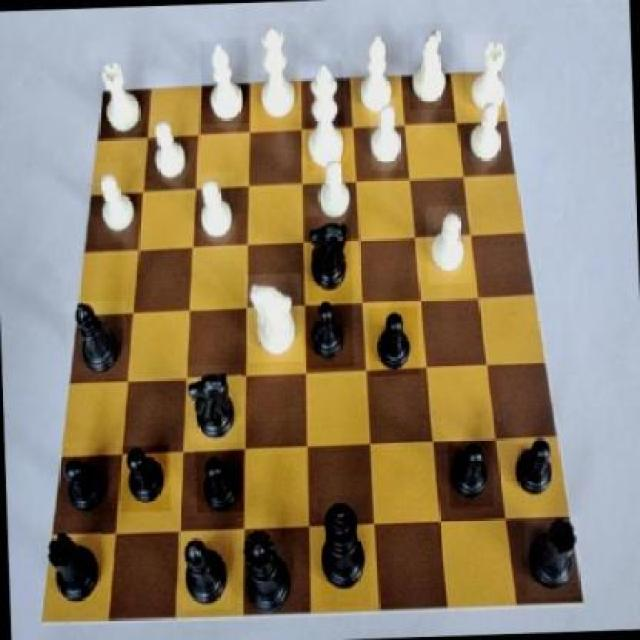bishop: (64, 298, 128, 379), (178, 529, 232, 610)
black-bishop: (317, 495, 372, 608)
black-king: (188, 364, 244, 444), (306, 215, 353, 302)
black-knight: (57, 448, 110, 518), (369, 308, 420, 378), (118, 445, 171, 512), (509, 432, 559, 502), (304, 302, 354, 369), (196, 449, 246, 513), (448, 440, 494, 508)
black-pawn: (235, 524, 300, 618)
black-queen: (44, 530, 104, 616), (524, 514, 582, 598)
black-rook: (198, 37, 248, 124), (354, 23, 397, 117)
white-bishop: (303, 58, 346, 172)
white-king: (245, 274, 302, 363), (408, 23, 454, 110)
white-knight: (426, 204, 472, 284), (94, 162, 138, 245), (148, 114, 194, 188), (468, 98, 508, 176), (197, 170, 236, 248), (369, 97, 405, 170), (317, 156, 352, 228)
white-pawn: (254, 22, 301, 132)
white-queen: (97, 60, 148, 140), (464, 34, 510, 117)
